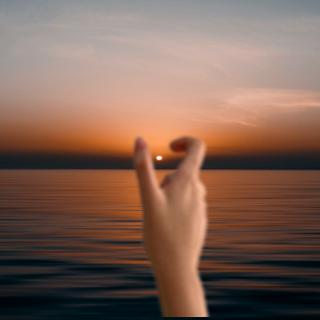Irritated: (120, 131, 217, 301)
